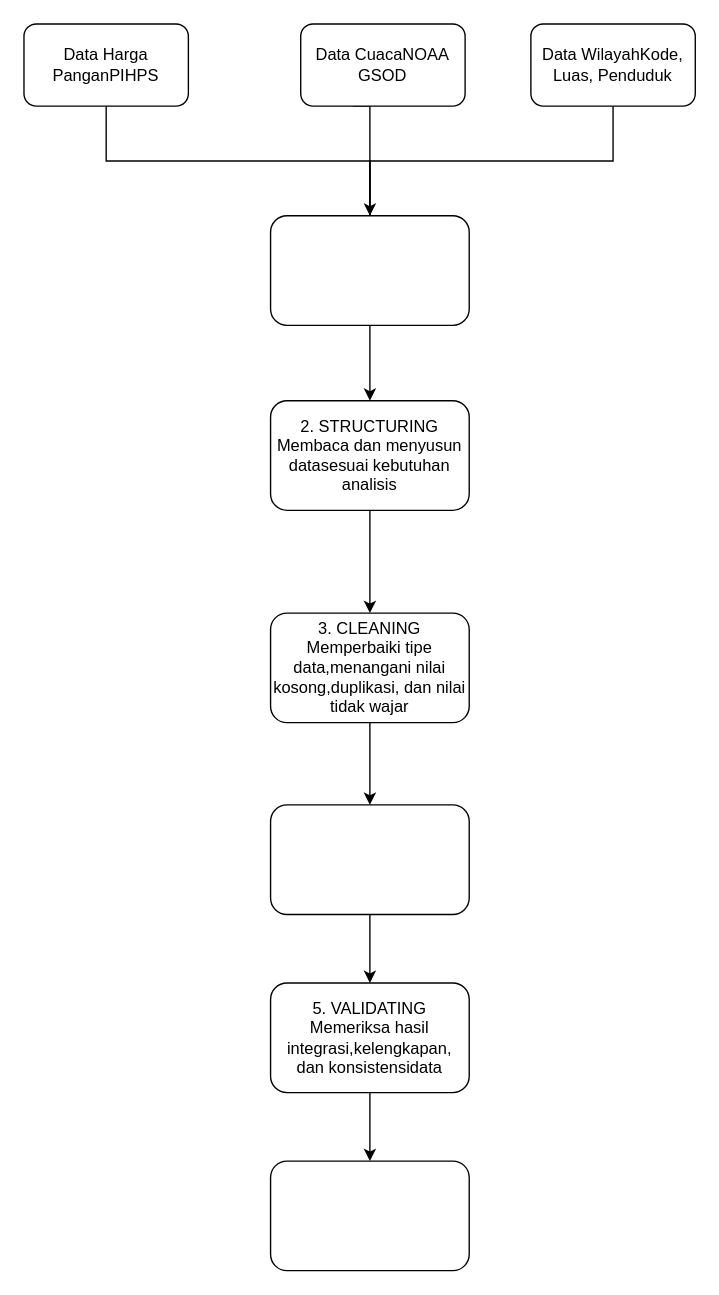
Image size: 719x1295. Some labels were removed from this diagram. The centre of each missing label's shape, as x and y in pixels:
"1. DISCOVERYMemeriksa sumber, format,struktur, dan isi data" goes at point (369, 269).
"4. ENRICHING Menggabungkan data harga,cuaca, dan informasi wilayah" goes at point (369, 859).
"6. PUBLISHING Menyimpan dataset akhirdalam format CSV" goes at point (369, 1215).
